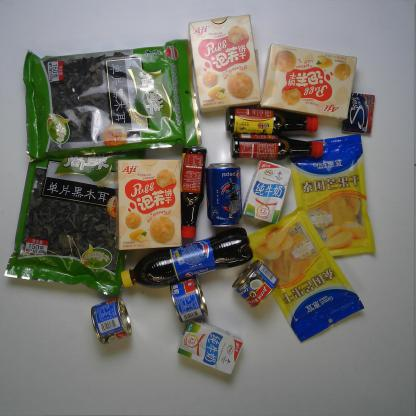Canned Food: (230, 258, 282, 309), (88, 296, 134, 346), (168, 274, 210, 324)
Dessert: (259, 39, 359, 124), (186, 12, 263, 114), (110, 156, 186, 252)
Dried Food: (20, 37, 204, 162), (2, 145, 148, 300)
Dried Fruit: (246, 205, 366, 344), (286, 132, 379, 258)
Drink: (117, 225, 256, 290), (202, 158, 245, 229)
Gum: (339, 90, 376, 136)
Milk: (174, 316, 245, 380), (239, 159, 294, 227)
Seasoner: (221, 103, 321, 136), (176, 144, 209, 240), (228, 132, 326, 162)
